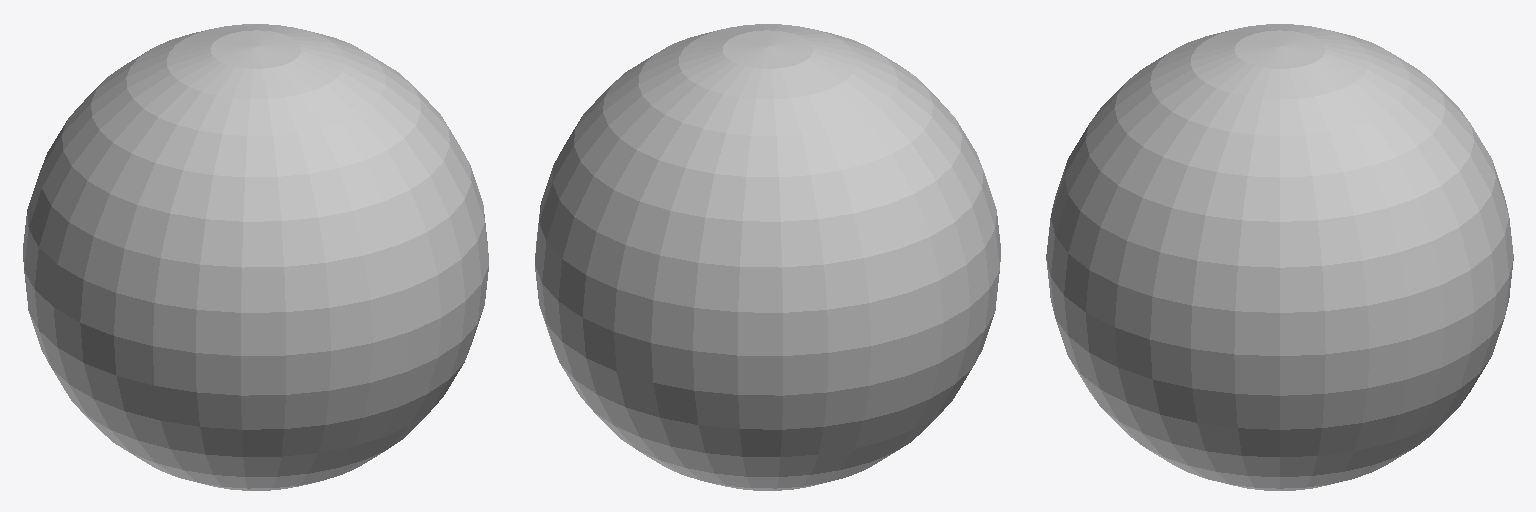
Rendered from skydome.obj.
3 views of the same model, side by side, from view 1: azimuth 30°, elevation 25°; view 2: azimuth 150°, elevation 25°; view 3: azimuth 270°, elevation 25° (orthographic).
Parts seen in each view (by area): view 1: Sphere_Sphere.003; view 2: Sphere_Sphere.003; view 3: Sphere_Sphere.003.
Boxes of the visible parts, box(x1,y1,x2,y2) form: Sphere_Sphere.003: box(23, 24, 488, 490); Sphere_Sphere.003: box(535, 24, 1000, 490); Sphere_Sphere.003: box(1046, 24, 1513, 490).
Size of the model in its own units: 2.4 by 2.37 by 2.4.